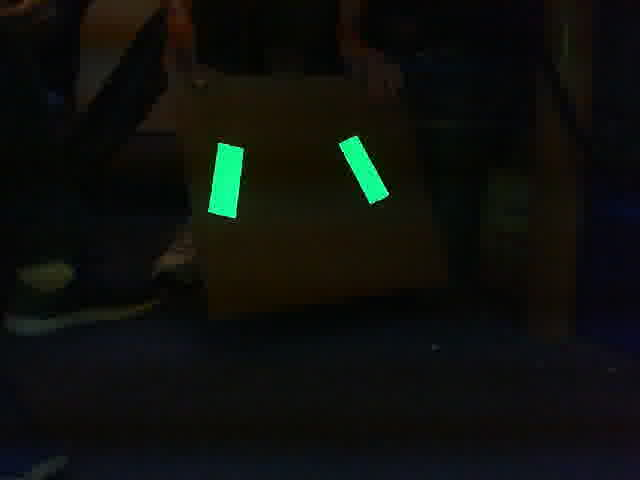target: (206, 135, 392, 220)
